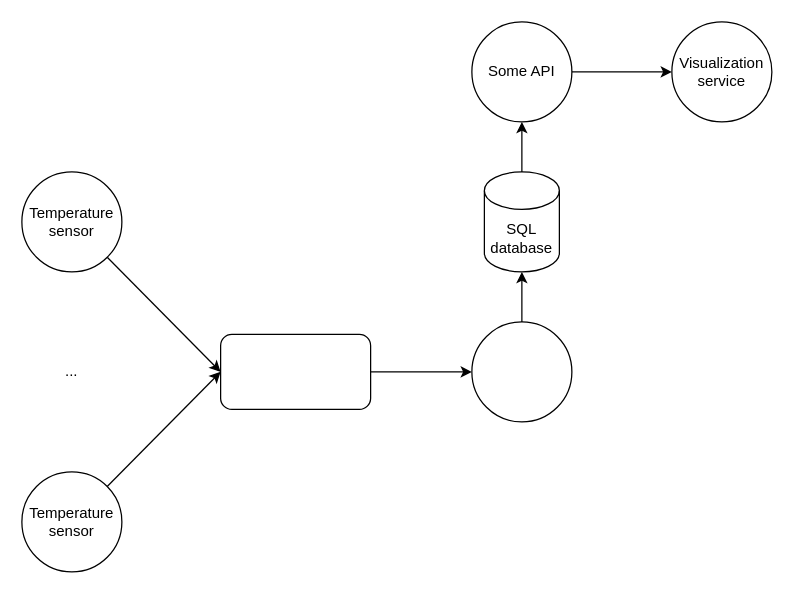
This 794x594 diagram has some shape labels left out. Each missing label, with the centre of its shape:
"Ingestion service" goes at pixel 521 371.
"MQTT broker" goes at pixel 295 371.
